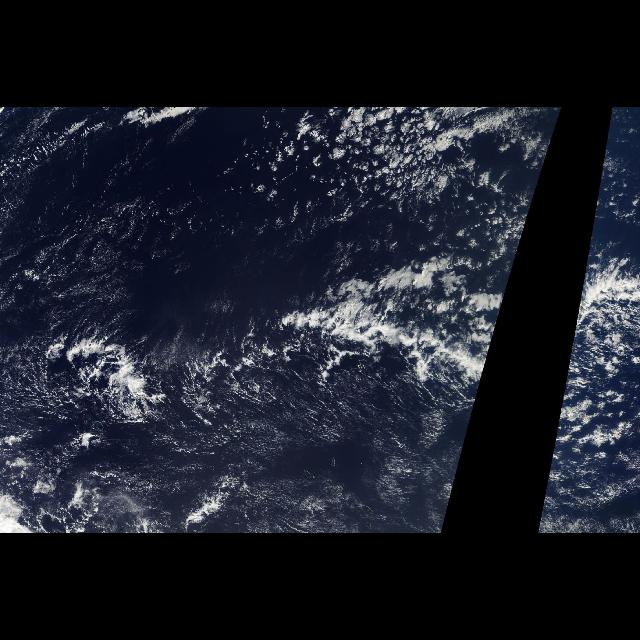Fish: (235, 221, 529, 413), (558, 221, 640, 413)
Sugar: (19, 399, 474, 533), (1, 110, 255, 330)
